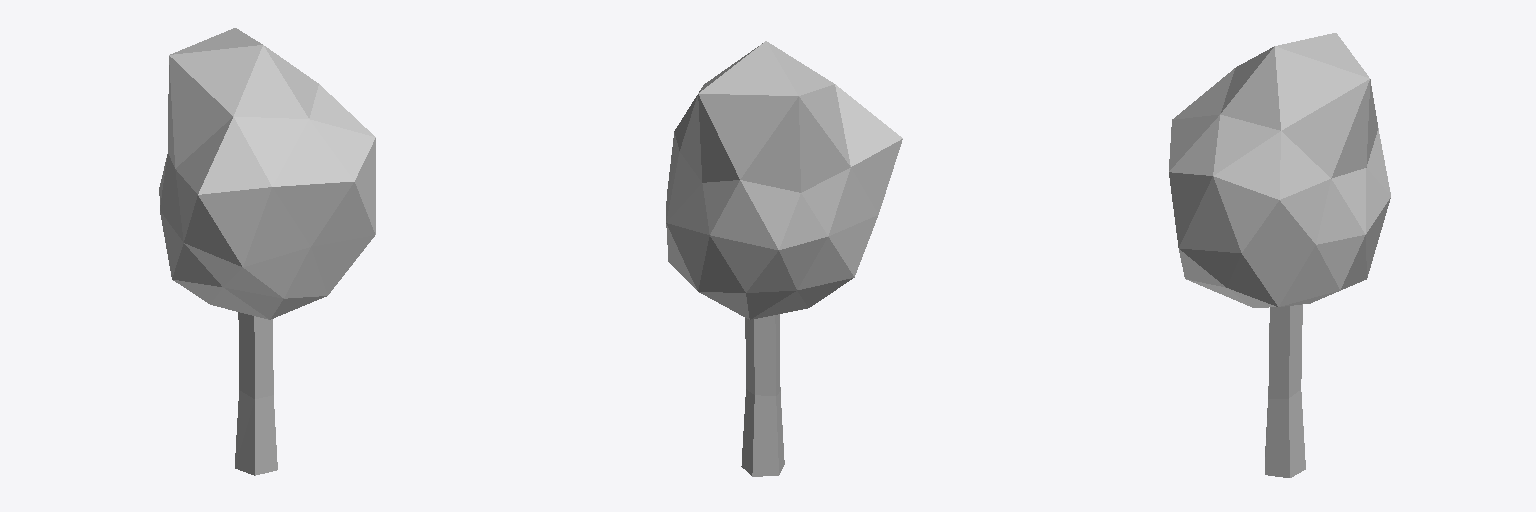
The model's file is arbolChico.obj.
3 views of the same model, side by side, from view 1: azimuth 30°, elevation 25°; view 2: azimuth 150°, elevation 25°; view 3: azimuth 270°, elevation 25° (orthographic).
Visible parts, largest first — view 1: Circle; view 2: Circle; view 3: Circle.
Boxes of the visible parts, box(x1,y1,x2,y2) form: Circle: box(159, 28, 375, 475); Circle: box(666, 41, 902, 476); Circle: box(1169, 33, 1390, 477).
Size of the model in its own units: 44.12 by 92.53 by 44.02.